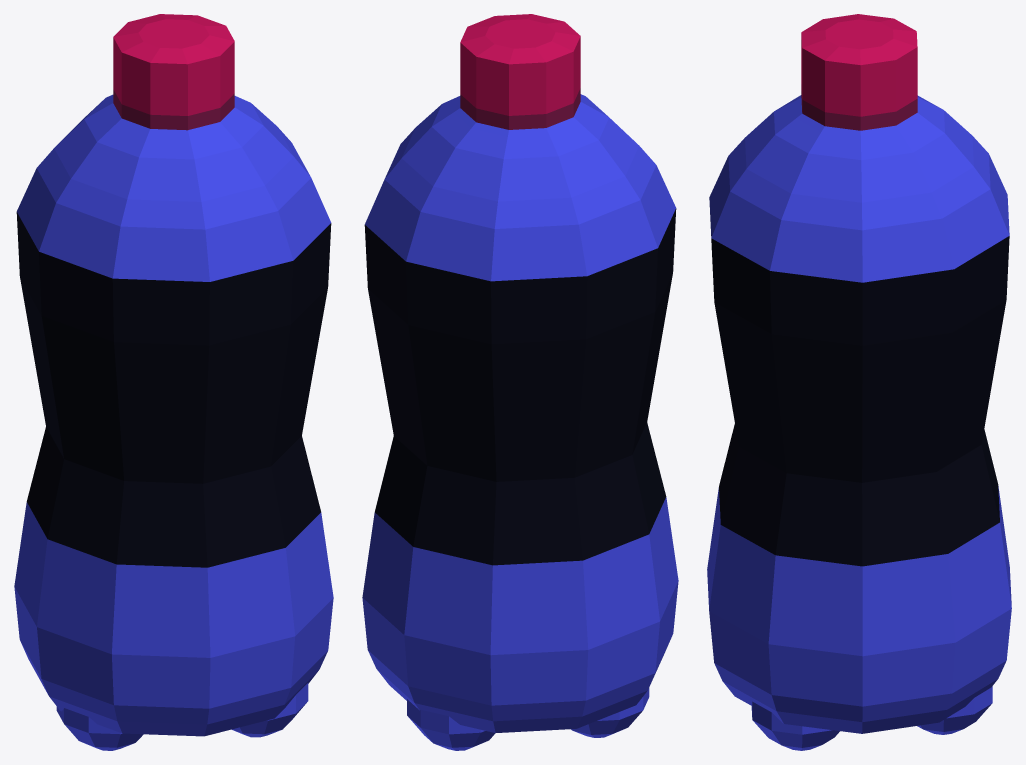
Rendered from Potion.TightAbs.fbx.
3 views of the same model, side by side, from view 1: azimuth 30°, elevation 25°; view 2: azimuth 150°, elevation 25°; view 3: azimuth 270°, elevation 25° (orthographic).
Visible parts, largest first — view 1: Potion.TightAbs; view 2: Potion.TightAbs; view 3: Potion.TightAbs.
Boxes of the visible parts, x1,y1,x2,y2 form: Potion.TightAbs: (14, 14, 333, 750); Potion.TightAbs: (362, 14, 678, 750); Potion.TightAbs: (707, 14, 1011, 750).
Bounding box in the file's own units: 34.3 × 81.4 × 32.84.
